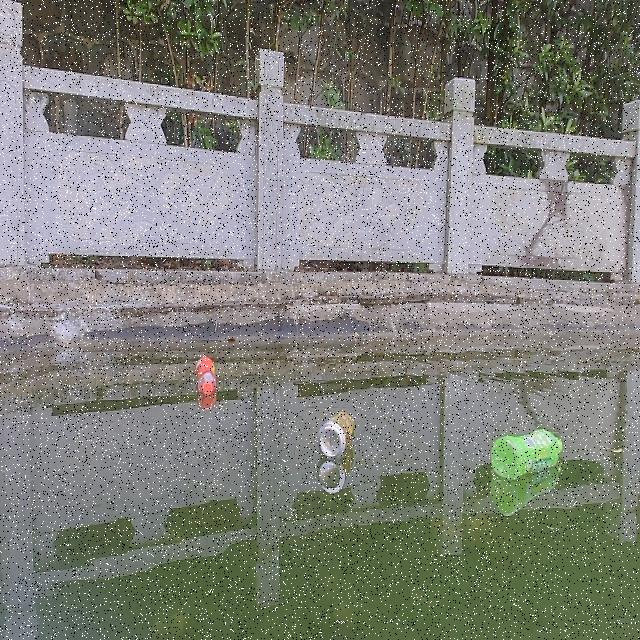Bottle: (482, 426, 567, 478), (188, 349, 218, 399)
Can: (309, 404, 355, 459)
